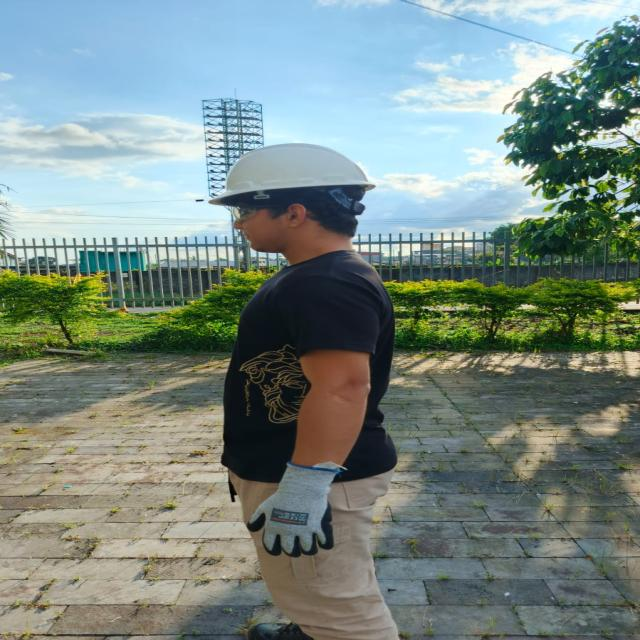gloves: (246, 463, 339, 558)
helmet: (208, 143, 377, 201)
protective_glasses: (232, 204, 303, 221)
